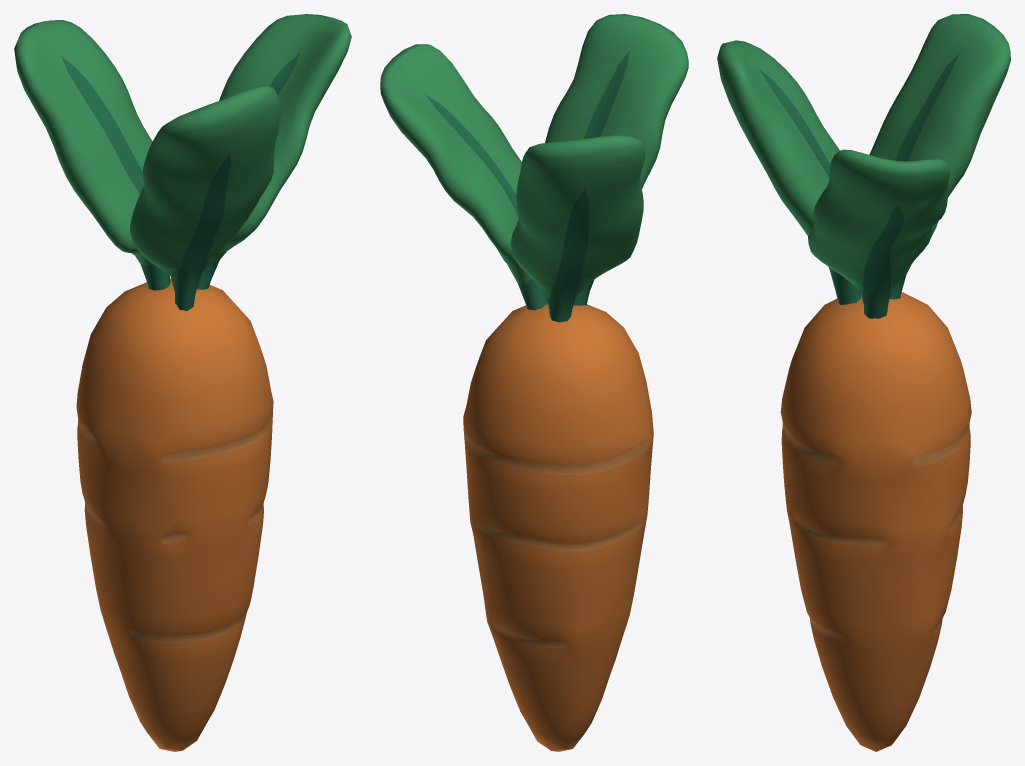
File: Carrot_03.dae
3 renders of one model, left to right at view 1: azimuth 30°, elevation 25°; view 2: azimuth 150°, elevation 25°; view 3: azimuth 270°, elevation 25°, orthographic. The views are drawn at different scales.
Parts seen in each view (by area): view 1: Carrot_03_LOD0; view 2: Carrot_03_LOD0; view 3: Carrot_03_LOD0.
Boxes of the visible parts, left/top/right/bottom form: Carrot_03_LOD0: left=14, top=14, right=351, bottom=751; Carrot_03_LOD0: left=380, top=14, right=688, bottom=751; Carrot_03_LOD0: left=717, top=14, right=1010, bottom=751.
Size of what is drawn, in the model's own units: 3.16 by 2.82 by 7.38.
